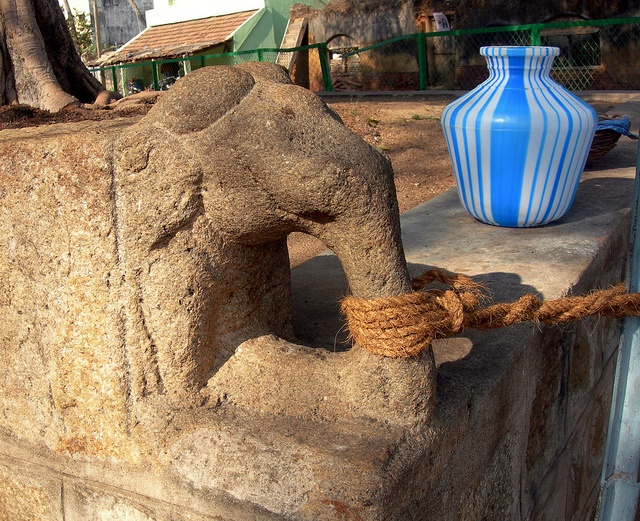motorcycle: (127, 76, 272, 173)
